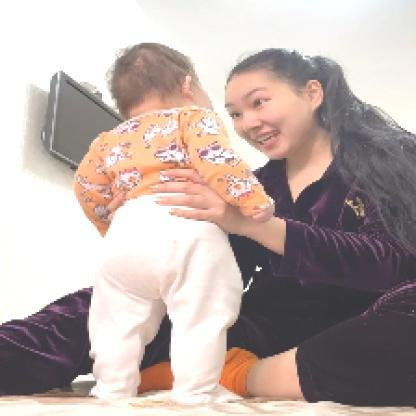child: (72, 43, 277, 404)
